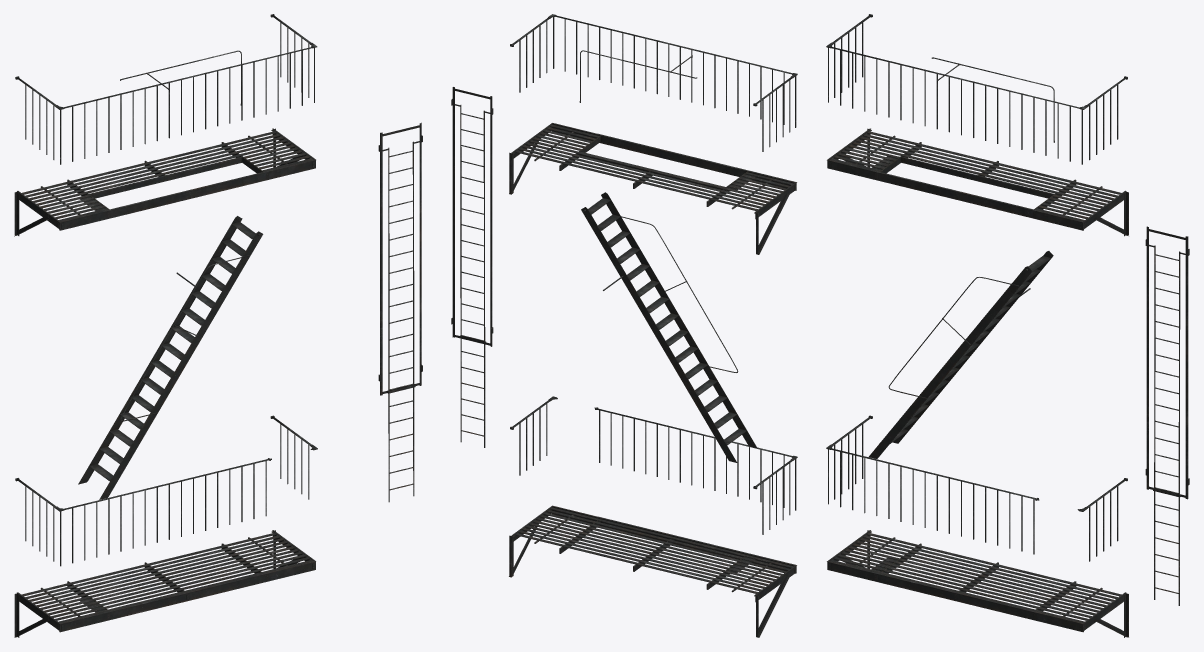
File: modular_fire_escape.glb
3 views of the same model, side by side, from view 1: azimuth 30°, elevation 25°; view 2: azimuth 150°, elevation 25°; view 3: azimuth 330°, elevation 25° (orthographic). The views are drawn at different scales.
Visible parts, largest first — view 1: modular_fire_escape_platform_middle, modular_fire_escape_railing_middle; view 2: modular_fire_escape_platform_middle, modular_fire_escape_railing_middle; view 3: modular_fire_escape_platform_middle, modular_fire_escape_railing_middle.
Part boxes in pixels (left/top/right/bottom): modular_fire_escape_platform_middle: left=14, top=128, right=315, bottom=637; modular_fire_escape_railing_middle: left=15, top=14, right=422, bottom=566; modular_fire_escape_platform_middle: left=509, top=123, right=796, bottom=637; modular_fire_escape_railing_middle: left=451, top=14, right=797, bottom=534; modular_fire_escape_platform_middle: left=827, top=128, right=1128, bottom=637; modular_fire_escape_railing_middle: left=826, top=14, right=1189, bottom=605.
Size of the model in its own units: 6.66 by 9.76 by 1.42.
2 materials, 2 textured.
